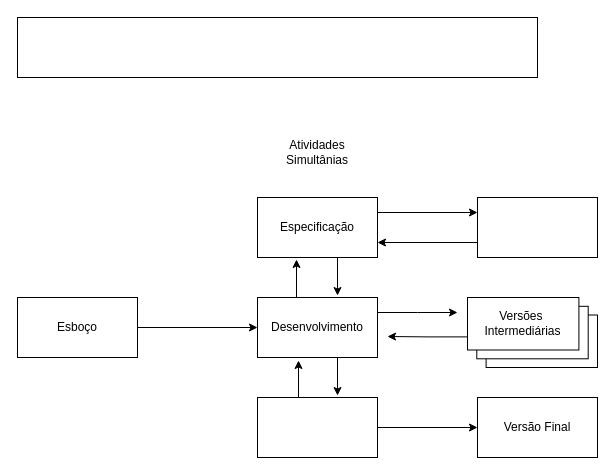
The diagram is 615 pixels wide and 475 high, and some of its shapes have lost their labels. The shapes that lost their labels are listed below. From the top down, each one's centre as x and y in pixels, then its label:
At (x=277, y=47): "MODELO INCREMENTAL".
At (x=537, y=227): "Versão Inicial".
At (x=317, y=427): "Validação".
